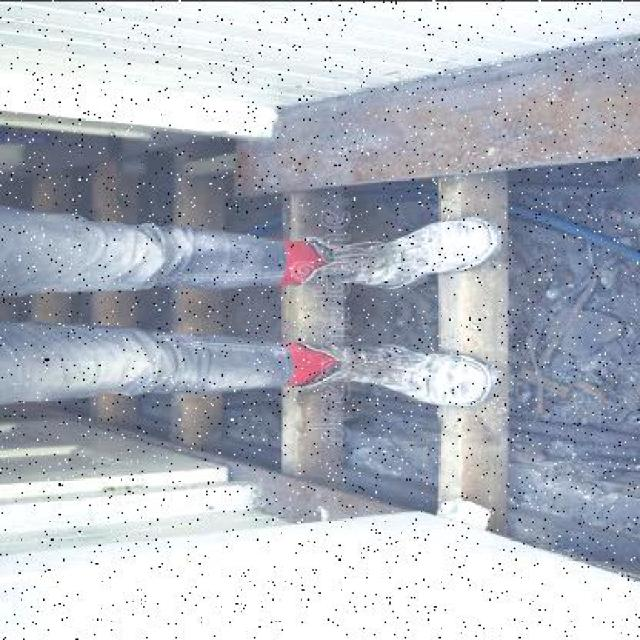shoes: (305, 211, 500, 289), (298, 342, 491, 396)
